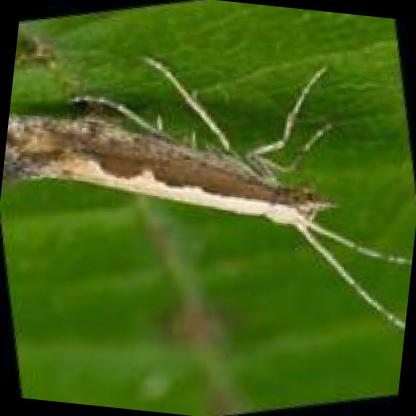plutella: (4, 44, 409, 332)
